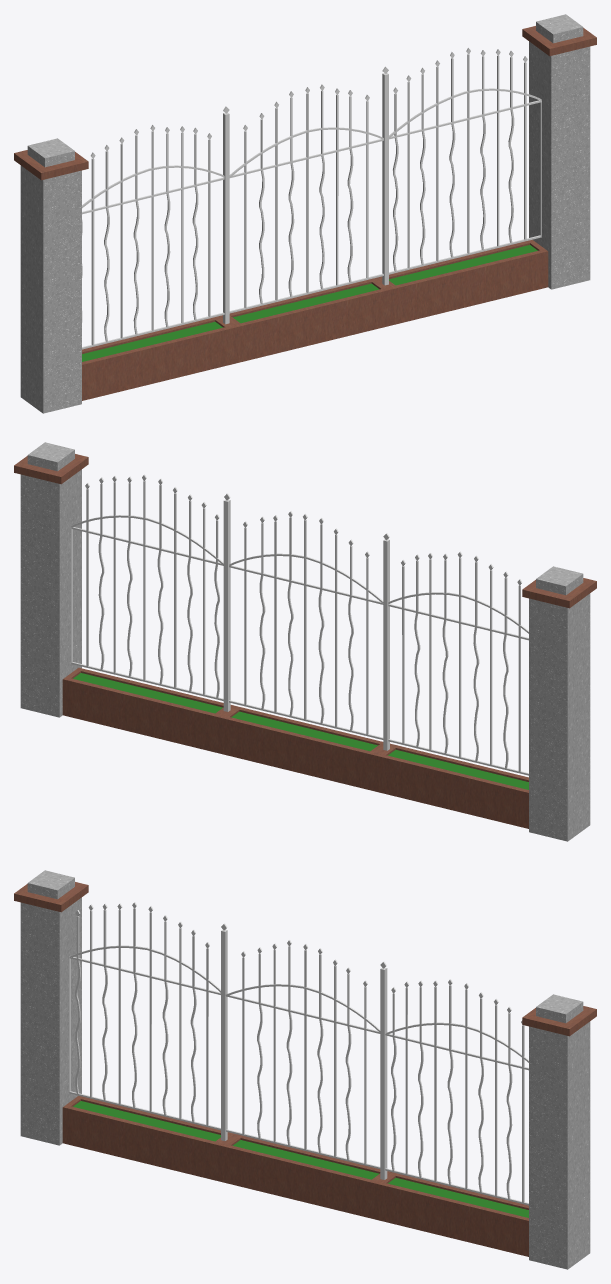
File: langan.FBX
3 views of the same model, one above another, from view 1: azimuth 30°, elevation 25°; view 2: azimuth 150°, elevation 25°; view 3: azimuth 330°, elevation 25° (orthographic).
Parts seen in each view (by area): view 1: Rectangle1472, Rectangle1468, Rectangle1464, Rectangle1471, Rectangle1462, Rectangle1460, Rectangle1445, Rectangle1428, Rectangle1465, Rectangle1469, Rectangle1466, Rectangle1470 (+28 smaller); view 2: Rectangle1472, Rectangle1468, Rectangle1464, Rectangle1471, Rectangle1462, Rectangle1460, Rectangle1445, Rectangle1428, Rectangle1465, Rectangle1469, Rectangle1466, Rectangle1470 (+28 smaller); view 3: Rectangle1472, Rectangle1464, Rectangle1468, Rectangle1471, Rectangle1462, Rectangle1460, Rectangle1445, Rectangle1428, Rectangle1469, Rectangle1465, Rectangle1466, Rectangle1470 (+29 smaller).
Part boxes in pixels (x1=…): Rectangle1472: x1=82, y1=239, x2=548, y2=400; Rectangle1468: x1=20, y1=165, x2=81, y2=413; Rectangle1464: x1=529, y1=41, x2=590, y2=289; Rectangle1471: x1=82, y1=245, x2=537, y2=361; Rectangle1462: x1=382, y1=73, x2=388, y2=285; Rectangle1460: x1=223, y1=112, x2=229, y2=324; Rectangle1445: x1=82, y1=235, x2=541, y2=349; Rectangle1428: x1=82, y1=100, x2=541, y2=214; Rectangle1465: x1=522, y1=26, x2=596, y2=56; Rectangle1469: x1=14, y1=150, x2=88, y2=180; Rectangle1466: x1=536, y1=14, x2=583, y2=43; Rectangle1470: x1=27, y1=138, x2=74, y2=167; Rectangle1472: x1=62, y1=667, x2=528, y2=828; Rectangle1468: x1=529, y1=593, x2=590, y2=841; Rectangle1464: x1=20, y1=469, x2=81, y2=717; Rectangle1471: x1=73, y1=673, x2=528, y2=789; Rectangle1462: x1=223, y1=499, x2=230, y2=711; Rectangle1460: x1=383, y1=539, x2=389, y2=750; Rectangle1445: x1=71, y1=662, x2=528, y2=775; Rectangle1428: x1=71, y1=527, x2=528, y2=640; Rectangle1465: x1=14, y1=454, x2=88, y2=484; Rectangle1469: x1=522, y1=578, x2=596, y2=608; Rectangle1466: x1=27, y1=442, x2=74, y2=471; Rectangle1470: x1=536, y1=566, x2=583, y2=595; Rectangle1472: x1=62, y1=1095, x2=528, y2=1256; Rectangle1464: x1=529, y1=1021, x2=590, y2=1269; Rectangle1468: x1=20, y1=897, x2=81, y2=1145; Rectangle1471: x1=73, y1=1101, x2=528, y2=1217; Rectangle1462: x1=380, y1=967, x2=387, y2=1179; Rectangle1460: x1=221, y1=929, x2=227, y2=1140; Rectangle1445: x1=69, y1=1091, x2=528, y2=1205; Rectangle1428: x1=69, y1=956, x2=528, y2=1070; Rectangle1469: x1=14, y1=882, x2=88, y2=912; Rectangle1465: x1=522, y1=1006, x2=596, y2=1036; Rectangle1466: x1=536, y1=994, x2=583, y2=1023; Rectangle1470: x1=27, y1=870, x2=74, y2=899.
Size of the model in its own units: 16383 by 7136 by 1397.
